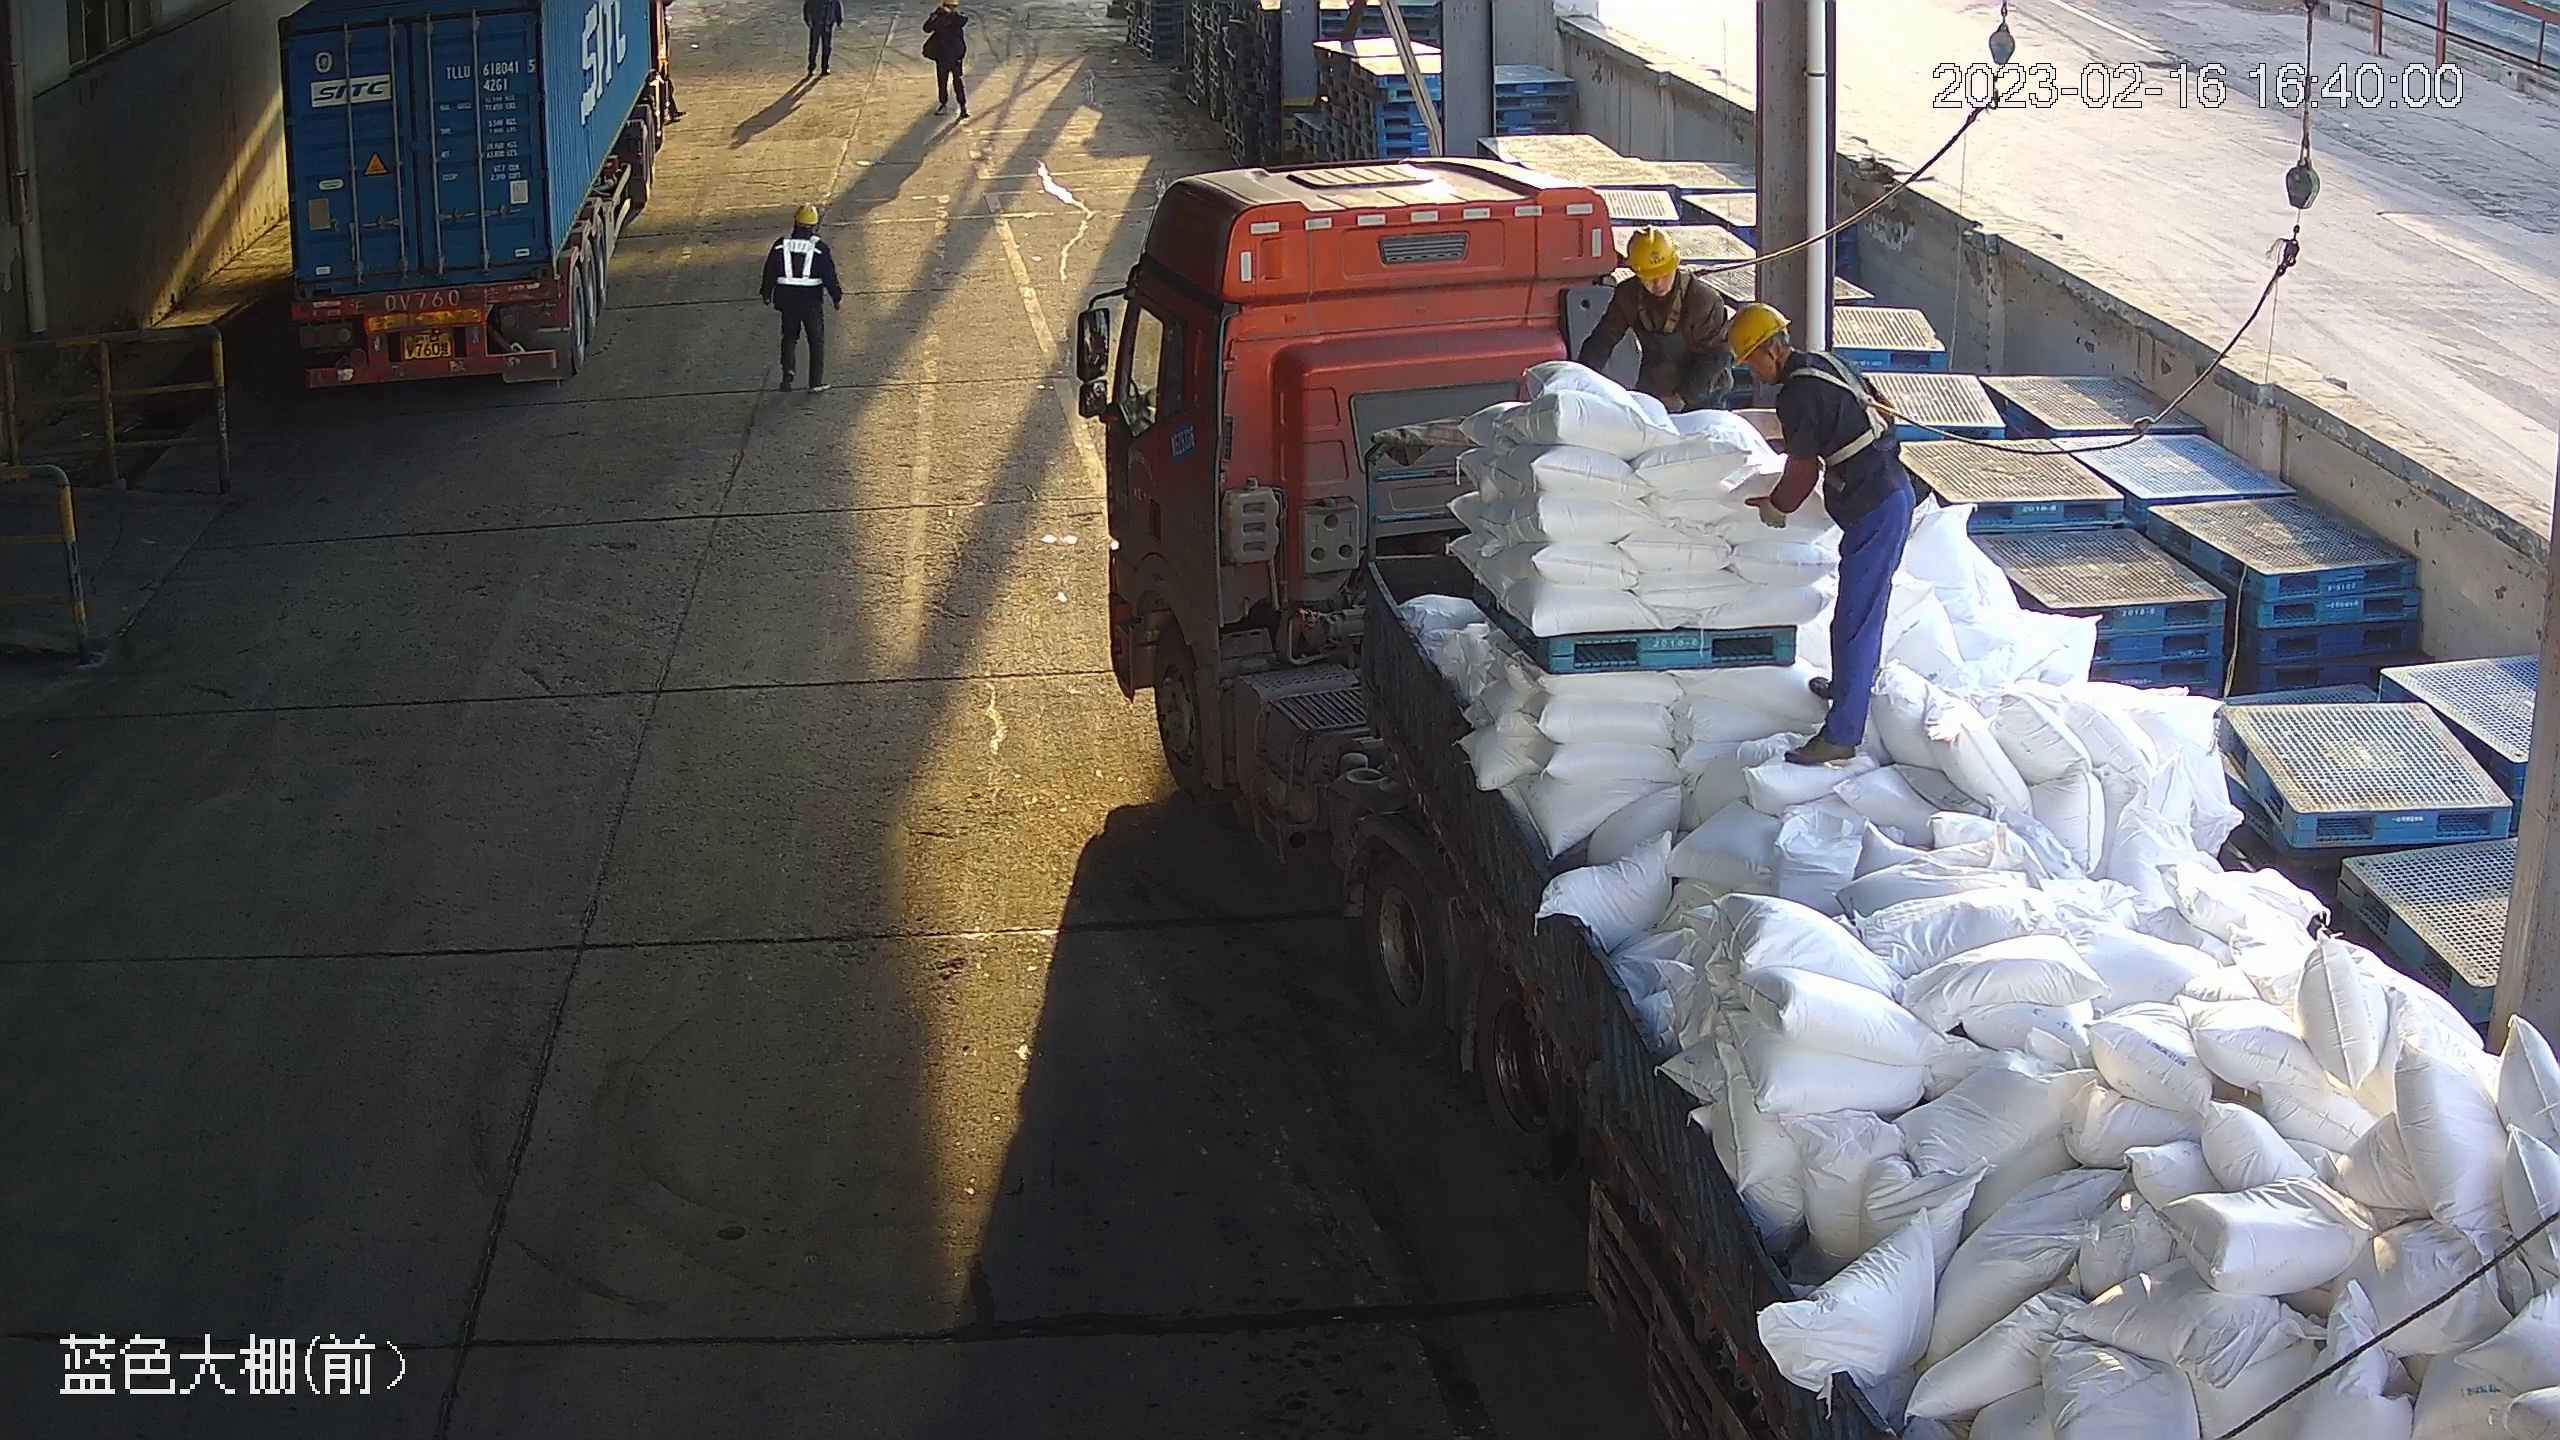head: (1727, 305, 1866, 436), (1604, 218, 1727, 348), (749, 200, 830, 271)
helmet: (1722, 307, 1789, 366), (1624, 226, 1678, 279), (794, 205, 819, 226)
people: (1723, 303, 1911, 764), (756, 199, 846, 393), (920, 2, 981, 115)
truck: (1069, 156, 2560, 1440), (266, 1, 695, 396)
